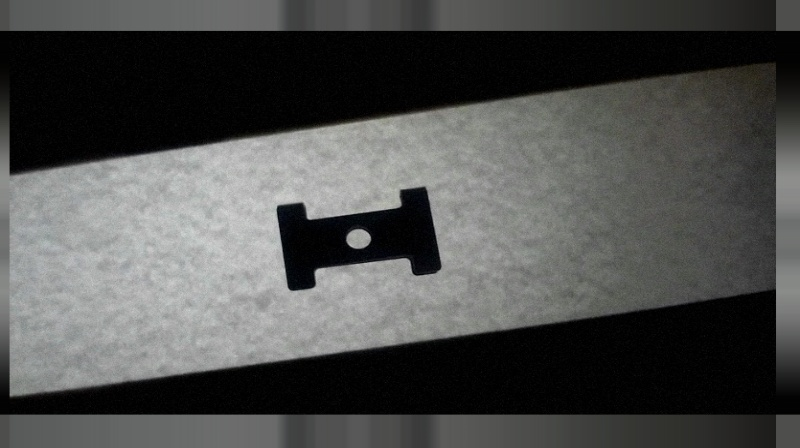O002: (273, 184, 443, 292)
